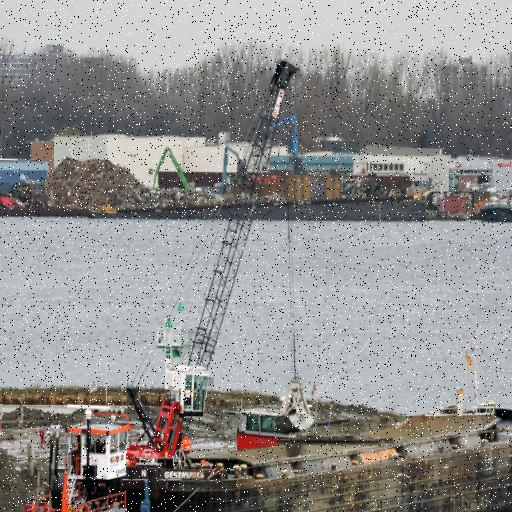tugboat: (1, 401, 157, 512)
